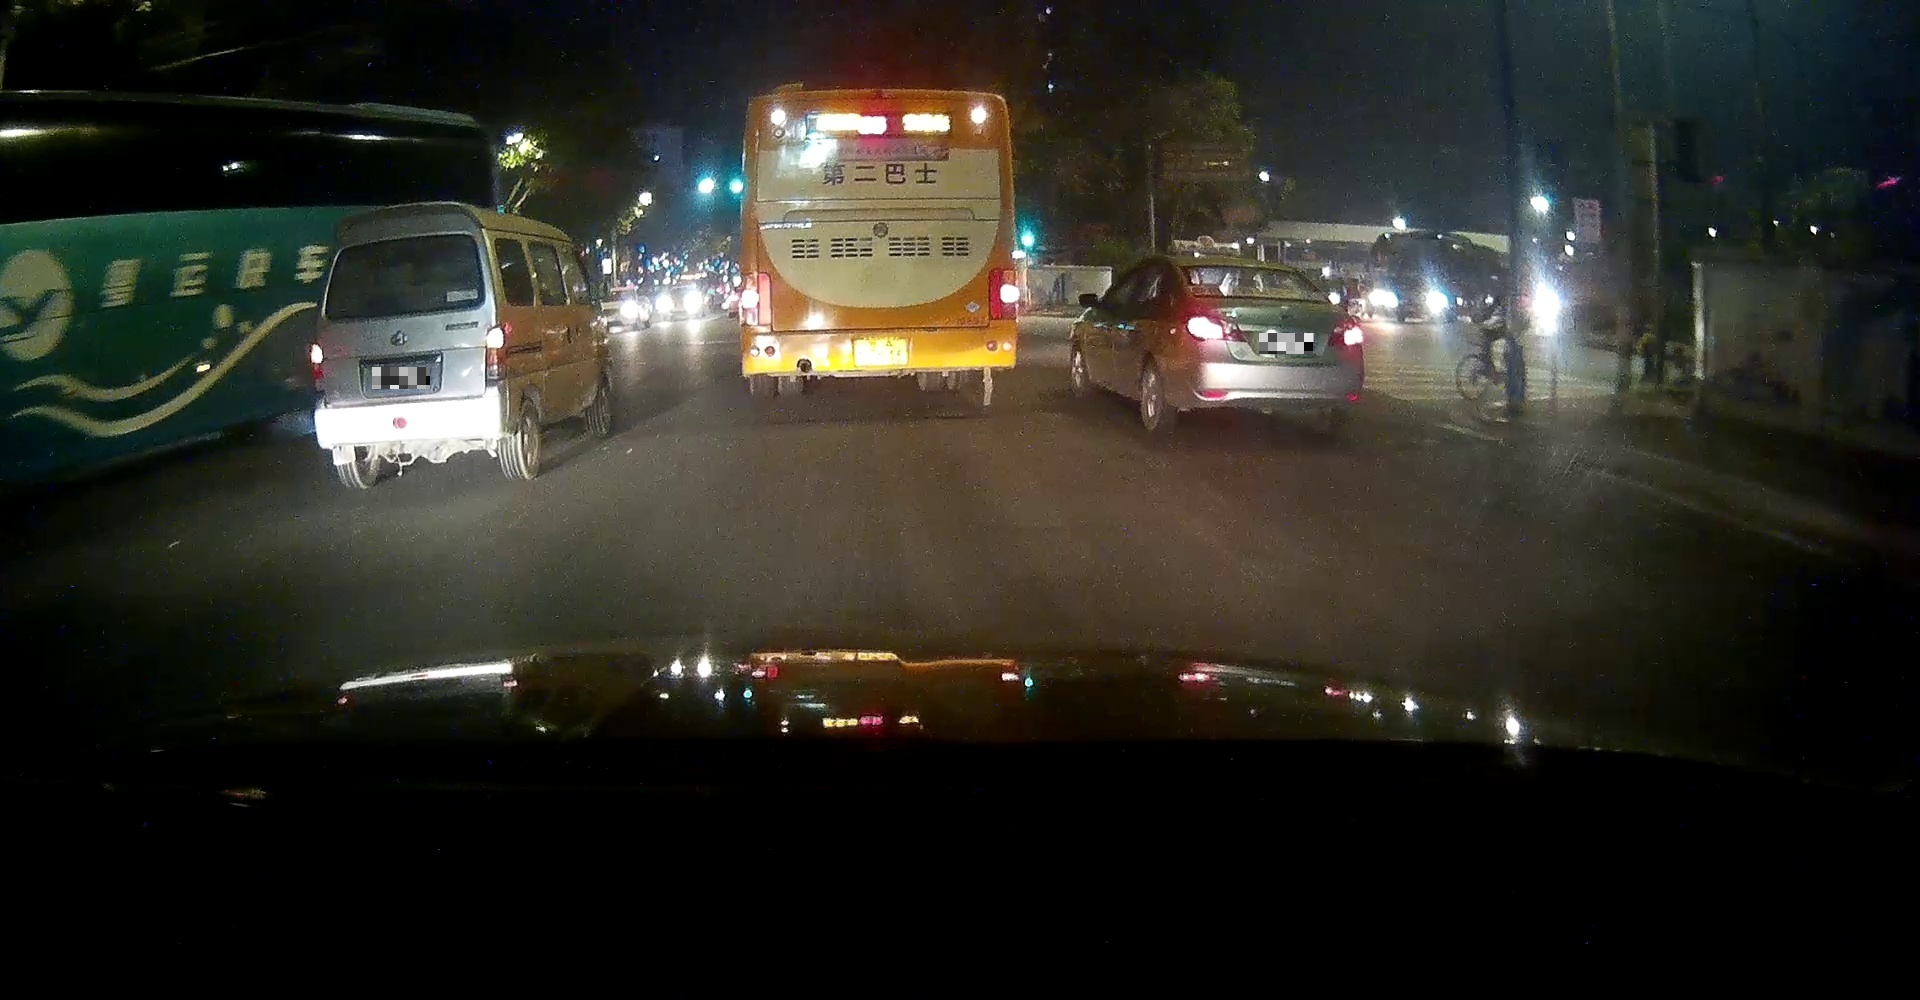L_light: (1183, 313, 1248, 341), (988, 266, 1018, 320), (310, 341, 325, 393)
R_light: (740, 272, 771, 325), (1327, 315, 1364, 348), (485, 325, 507, 381)
T_light: (858, 107, 886, 115), (383, 237, 411, 244), (1230, 266, 1253, 273)
night-no: (738, 84, 1018, 397), (310, 202, 512, 489), (1175, 256, 1365, 434)
plate_1: (372, 367, 430, 390)
plate_2: (1258, 332, 1314, 354)
